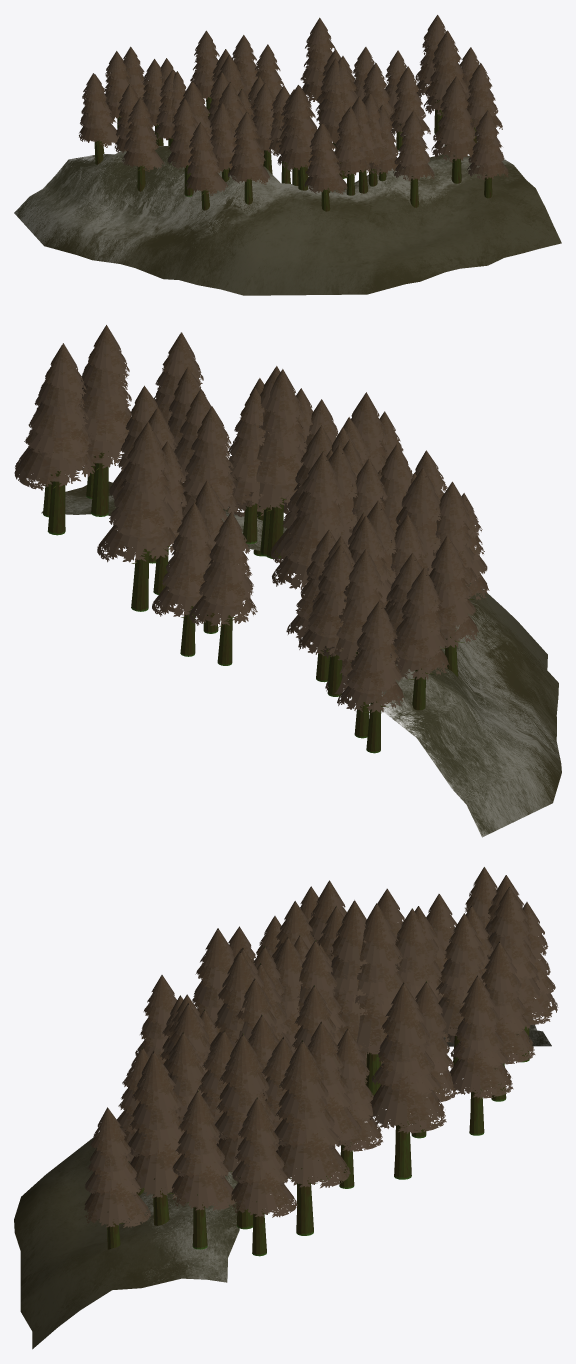
File: Island.fbx
3 views of the same model, one above another, from view 1: azimuth 30°, elevation 25°; view 2: azimuth 150°, elevation 25°; view 3: azimuth 270°, elevation 25° (orthographic). The views are drawn at different scales.
Visible parts, largest first — view 1: island, tree6 (×8), tree10 (×9), tree8 (×7), tree9 (×6), tree7 (×7), tree5, tree1, tree2, tree3, tree4; view 2: tree6 (×11), tree8 (×11), island, tree7 (×6), tree10 (×6), tree9 (×2), tree5, tree3; view 3: tree6 (×9), island, tree7 (×8), tree9 (×5), tree8 (×9), tree10 (×7), tree5, tree2, tree4, tree1.
Part boxes in pixels (x1,y1,x2,y2): island: (14,146,561,295); tree6 (×8): (179,15,468,190); tree10 (×9): (122,44,430,204); tree8 (×7): (79,30,243,196); tree9 (×6): (185,47,502,211); tree7 (×7): (114,35,394,181); tree5: (431,76,475,183); tree1: (393,110,434,207); tree2: (467,110,508,198); tree3: (334,106,371,195); tree4: (366,105,402,181); tree6 (×11): (14,325,441,611); tree8 (×11): (181,387,478,753); island: (41,481,561,837); tree7 (×6): (148,389,428,738); tree10 (×6): (109,367,478,676); tree9 (×2): (125,441,489,600); tree5: (154,332,203,423); tree3: (283,399,338,513); tree6 (×9): (192,880,446,1235); island: (14,1018,551,1349); tree7 (×8): (248,894,513,1180); tree9 (×5): (135,975,382,1256); tree8 (×9): (235,867,558,1101); tree10 (×7): (197,888,457,1182); tree5: (128,1050,184,1225); tree2: (84,1107,150,1249); tree4: (166,1032,205,1121); tree1: (117,1047,149,1195).
Bounding box in the file's own units: 90.84 × 39.53 × 69.2.
